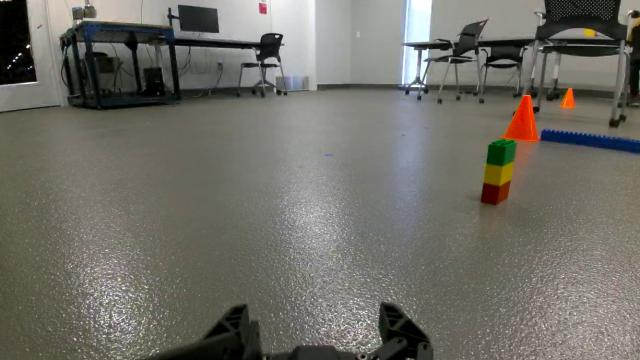lego: (468, 136, 526, 209)
